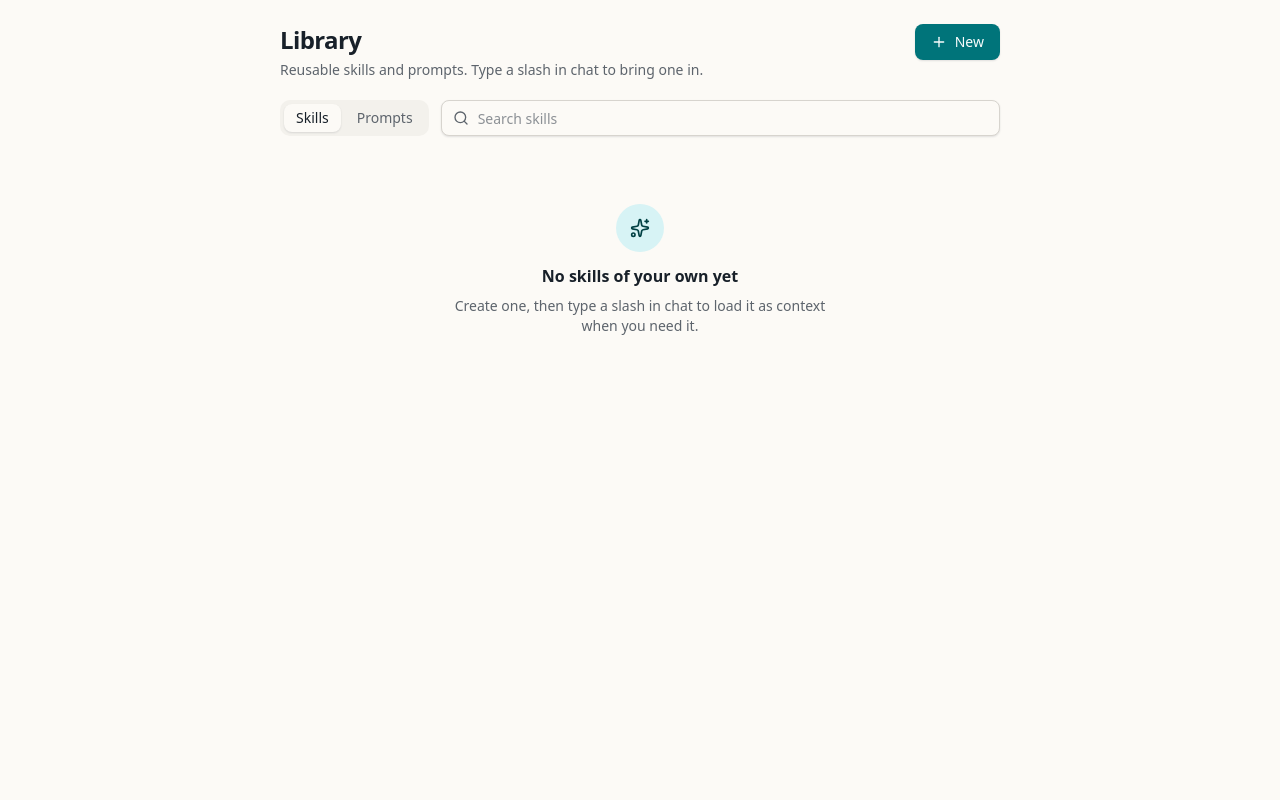
Scenario: skills tab › creates a skill with the normalised name (scenario 28)
Expected: the heading "No skills of your own yet" is shown, x1=542 y1=264 x2=738 y2=288
Click the button "New" at (957, 42), box x1=915 y1=24 x2=1000 y2=60
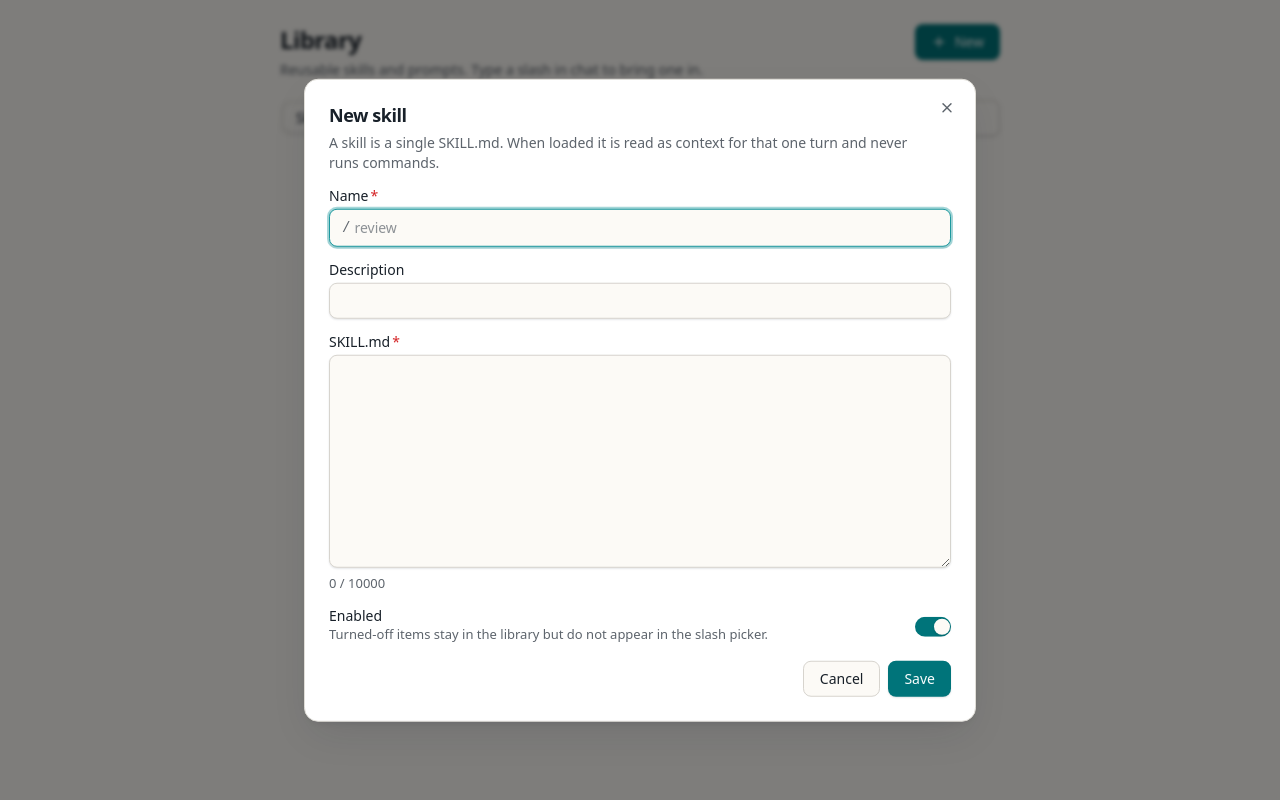
Type "/review" into the field labelled "Name*" at (650, 227), box x1=350 y1=209 x2=950 y2=245
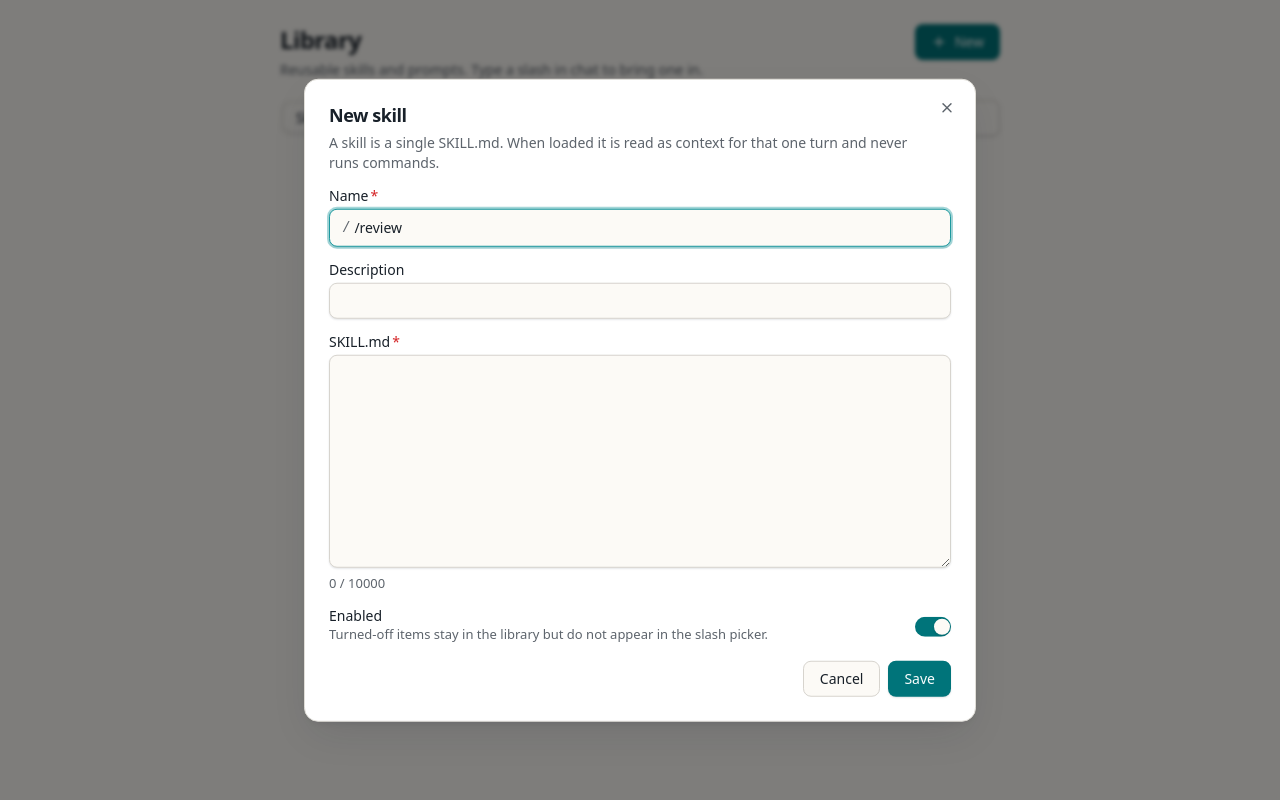
Type "x" into the text box labelled "SKILL.md*" at (640, 461), box x1=329 y1=354 x2=951 y2=567
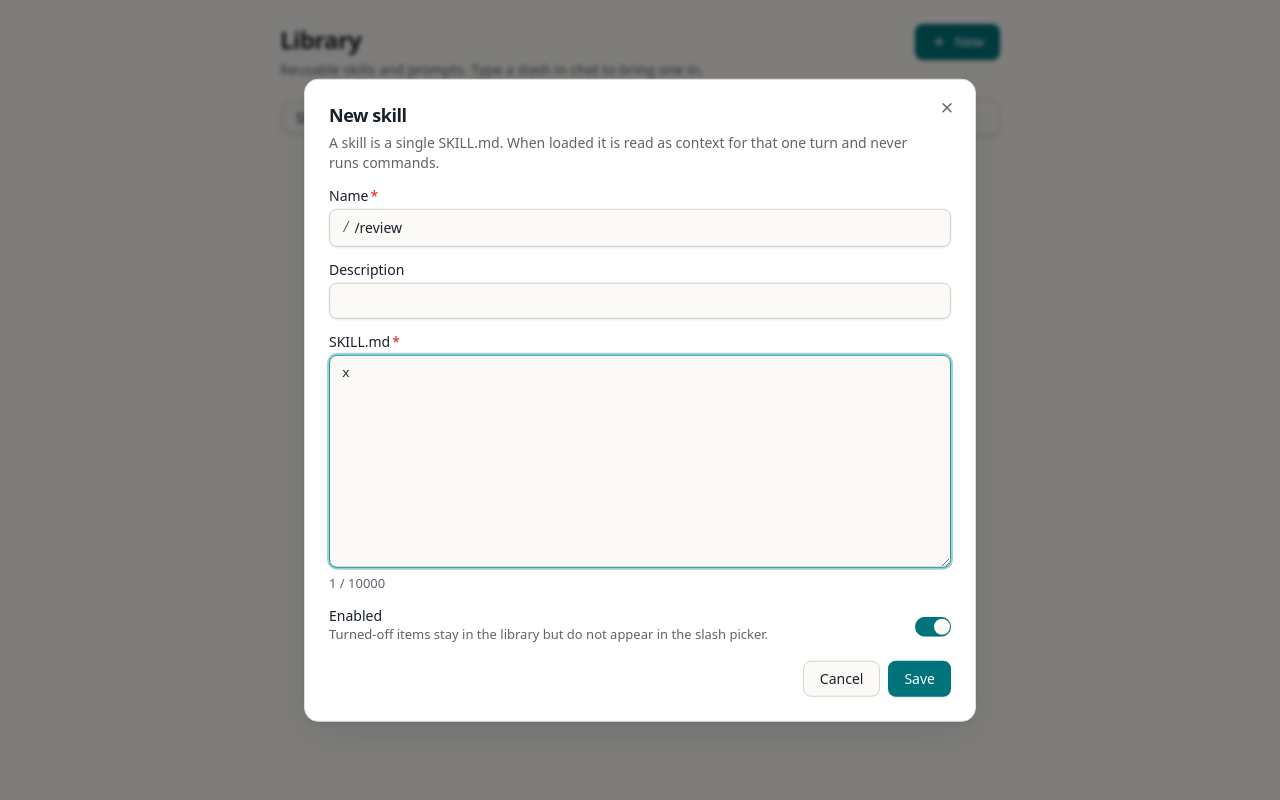
Click the button "Save" at (920, 678), box x1=888 y1=660 x2=951 y2=696
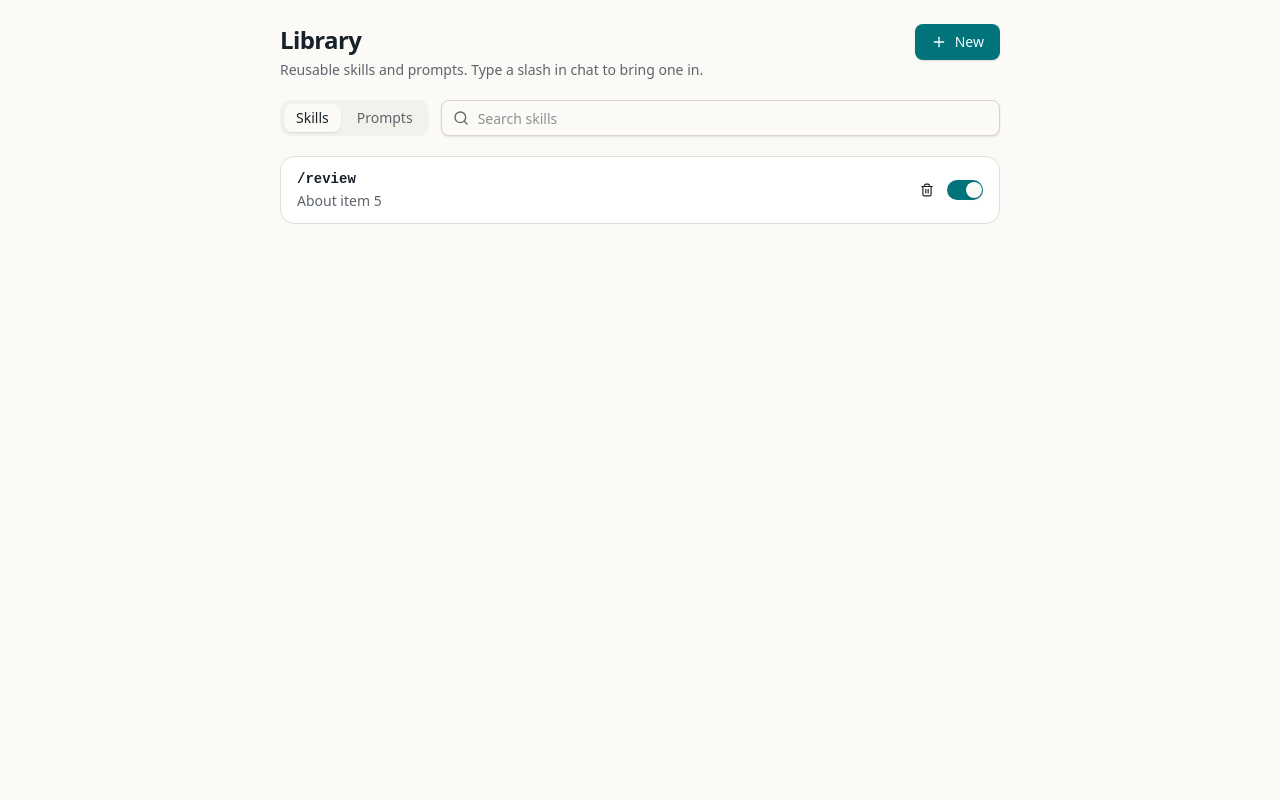
Now the text "/review" is shown, box x1=297 y1=169 x2=356 y2=189
